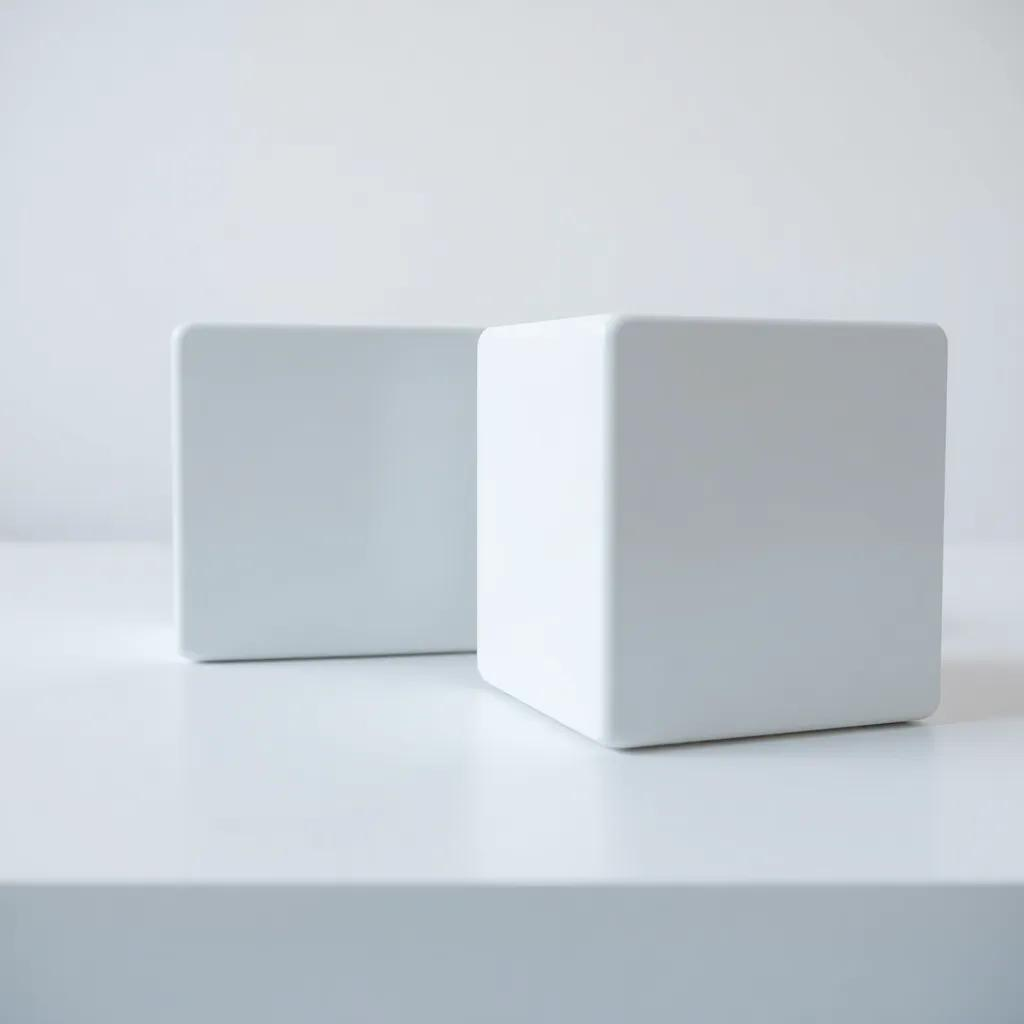cube: (474, 311, 948, 751), (171, 320, 484, 663)
